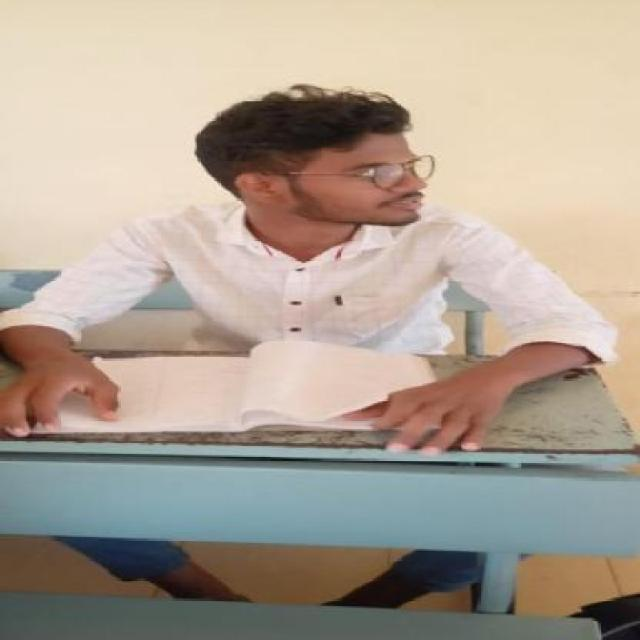cheating: (0, 75, 632, 454)
